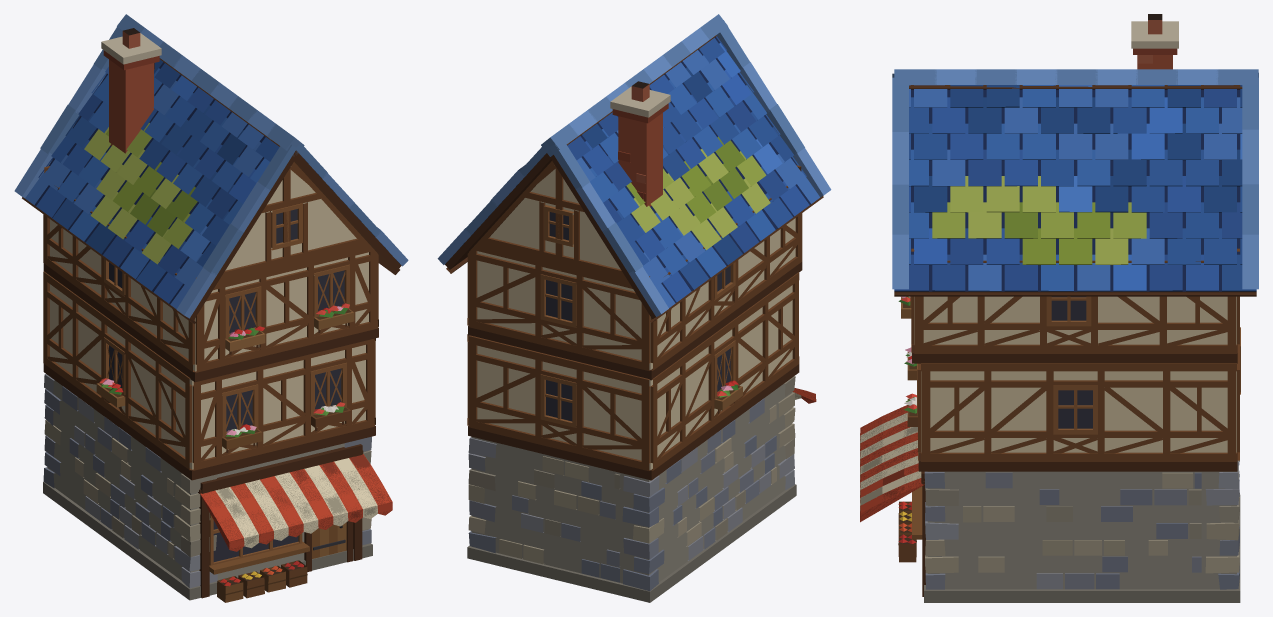
The model's file is town_house_narrow.glb.
The picture shows the model from 3 angles, left to right: view 1: azimuth 30°, elevation 25°; view 2: azimuth 150°, elevation 25°; view 3: azimuth 270°, elevation 25°; orthographic projection. The views are drawn at different scales.
Parts seen in each view (by area): view 1: town_house_narrow; view 2: town_house_narrow; view 3: town_house_narrow.
Boxes of the visible parts, box(x1,y1,x2,y2) form: town_house_narrow: box(14, 14, 408, 602); town_house_narrow: box(437, 14, 831, 602); town_house_narrow: box(860, 14, 1258, 602).
Bounding box in the file's own units: 6.33 × 12.88 × 9.03.
